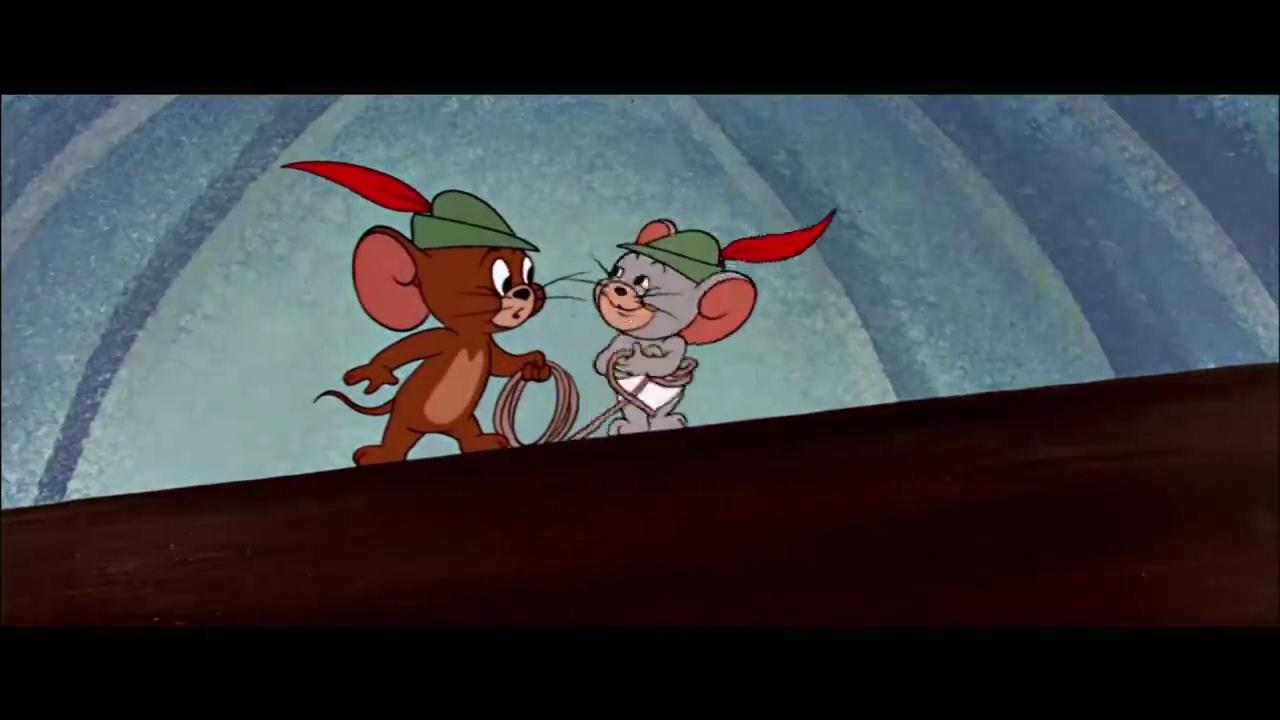Jerry: (312, 223, 587, 466)
